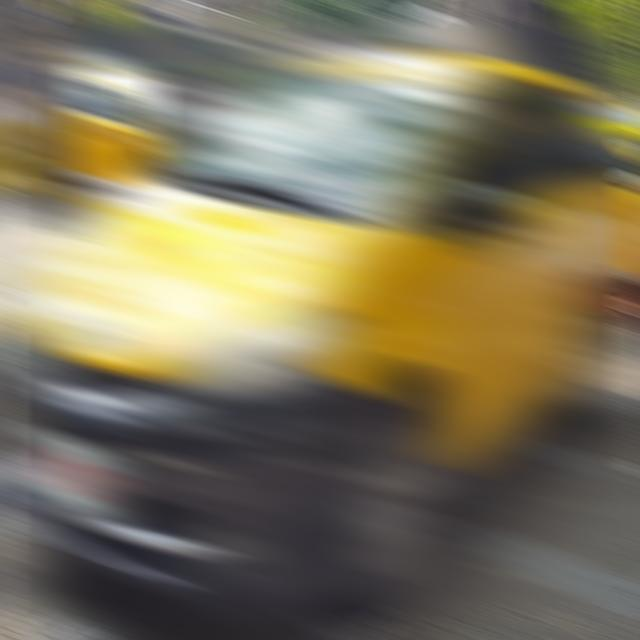Door: (67, 69, 163, 186)
Taxi: (0, 17, 635, 612)
